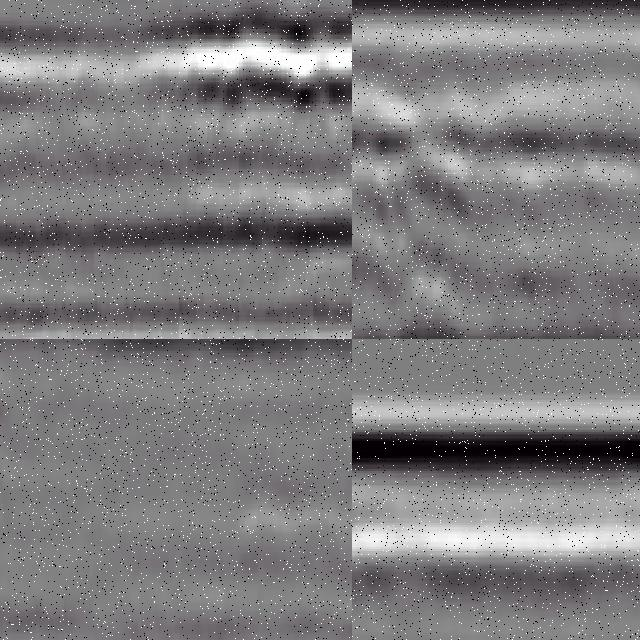loose: (353, 99, 531, 340)
